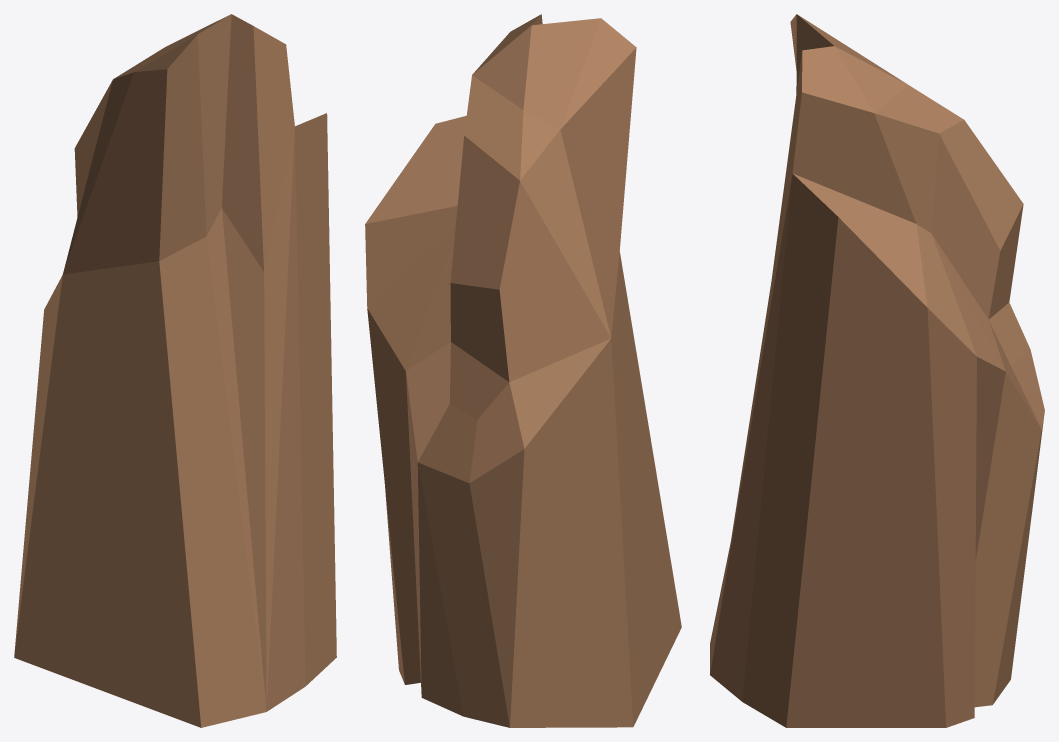
Rendered from Shore_rocks_08.fbx.
3 renders of one model, left to right at view 1: azimuth 30°, elevation 25°; view 2: azimuth 150°, elevation 25°; view 3: azimuth 270°, elevation 25°, orthographic. The views are drawn at different scales.
Parts seen in each view (by area): view 1: shore_rock_08; view 2: shore_rock_08; view 3: shore_rock_08.
Boxes of the visible parts, x1,y1,x2,y2 form: shore_rock_08: (14, 14, 336, 727); shore_rock_08: (365, 14, 681, 727); shore_rock_08: (710, 14, 1044, 727).
Bounding box in the file's own units: 571 × 1240 × 580.
